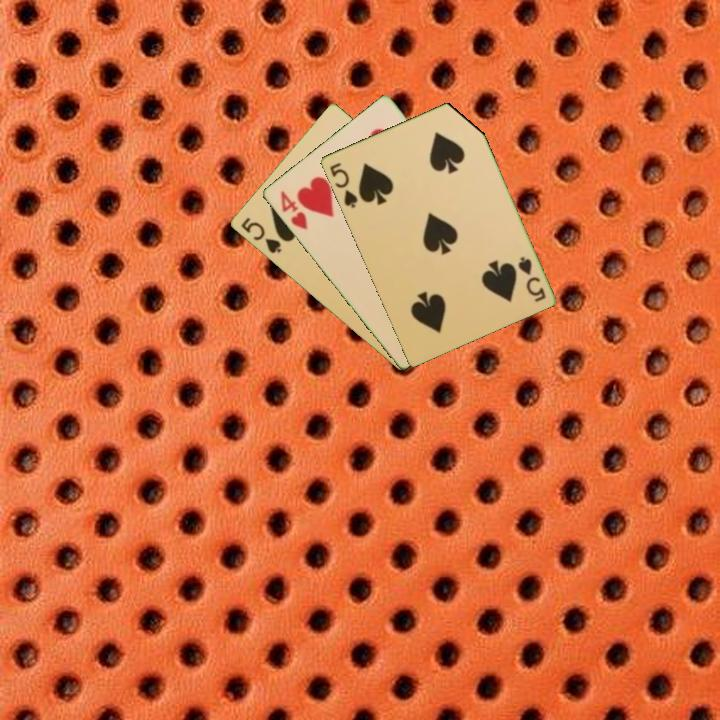4h: (276, 187, 310, 233)
5s: (237, 214, 284, 256), (326, 159, 360, 211), (514, 253, 548, 305)
